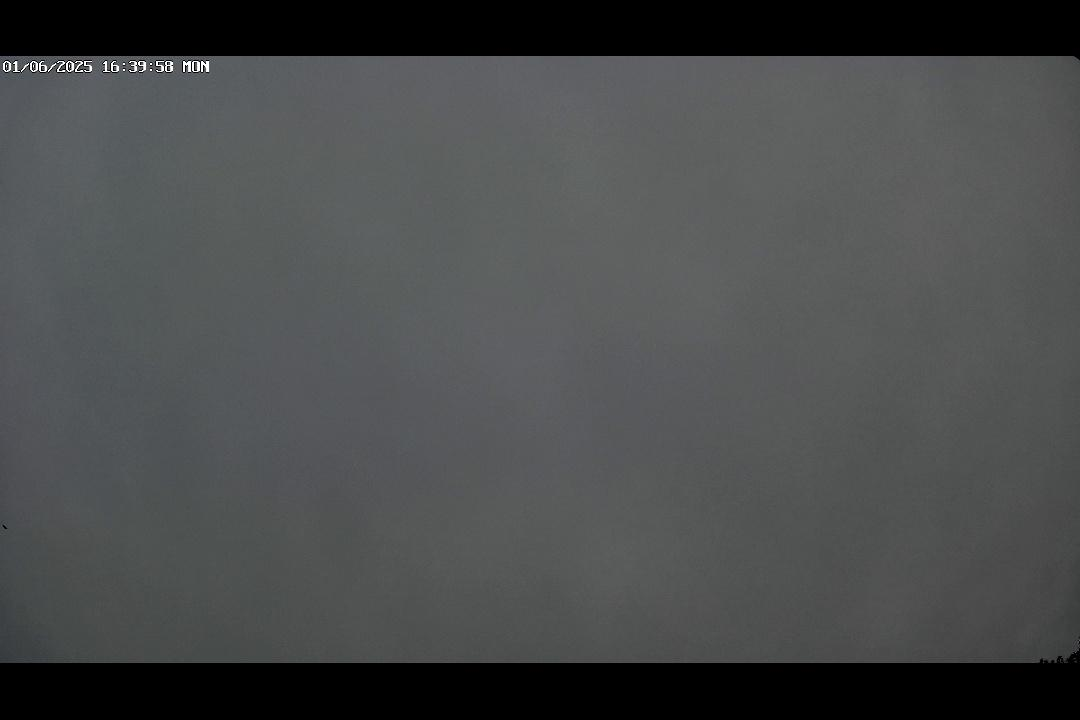WildLife: (0, 516, 11, 537)
